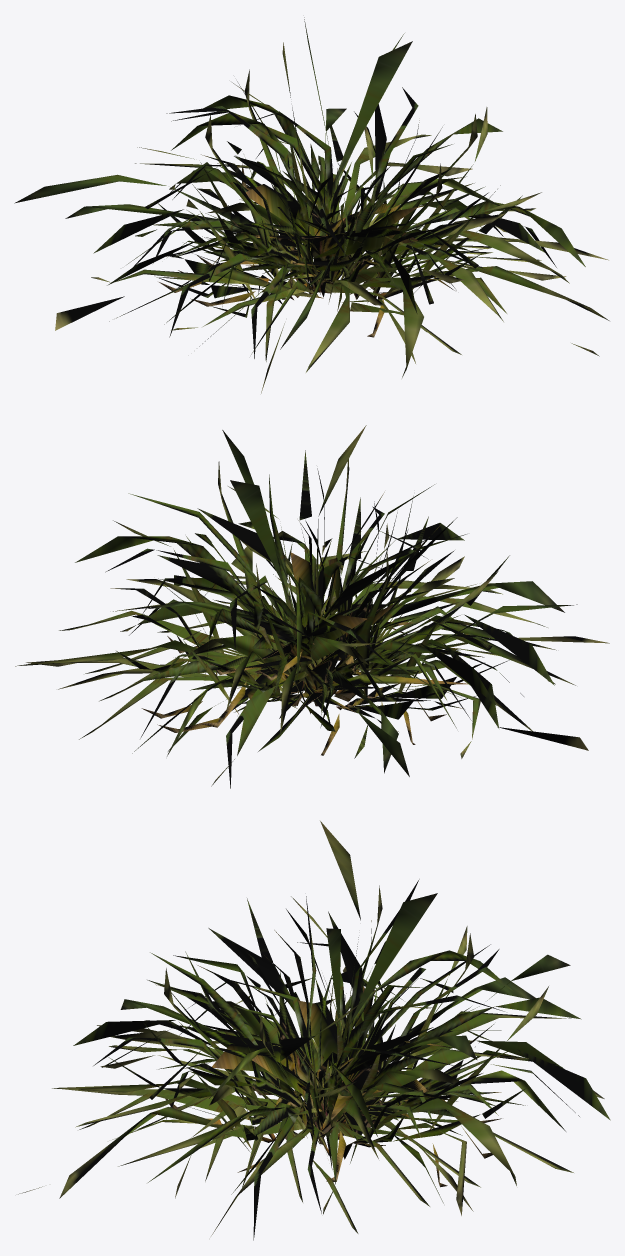
Rendered from grass_medium_01_v2.glb.
3 renders of one model, top to bottom at view 1: azimuth 30°, elevation 25°; view 2: azimuth 150°, elevation 25°; view 3: azimuth 270°, elevation 25°, orthographic. The views are drawn at different scales.
Parts seen in each view (by area): view 1: lod0; view 2: lod0; view 3: lod0.
Boxes of the visible parts, box(x1,y1,x2,y2) form: lod0: box(14, 17, 609, 393); lod0: box(15, 425, 609, 788); lod0: box(18, 821, 610, 1240).
Size of what is drawn, in the model's own units: 0.2731 by 0.1562 by 0.2609.
Materials: 1 (1 with a texture image).
